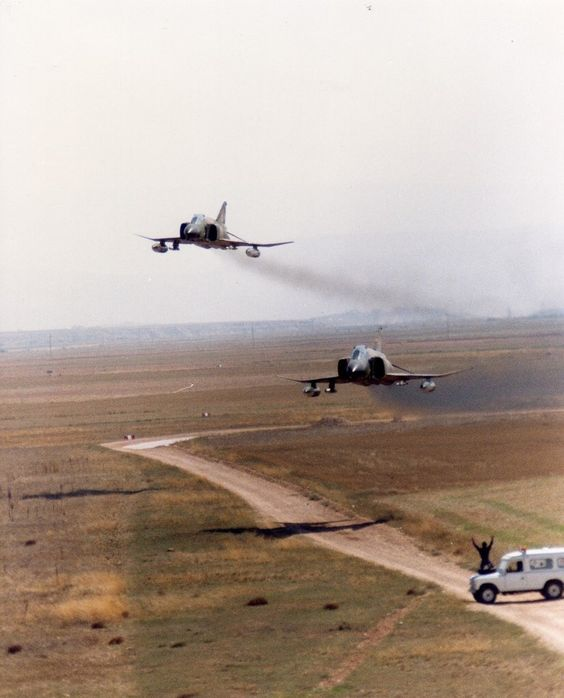F4: (276, 325, 475, 398), (132, 200, 296, 258)
